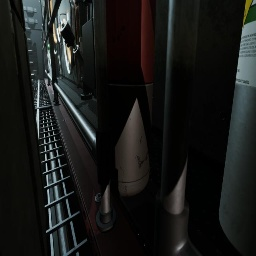0: (218, 0, 256, 256), (47, 42, 52, 78)
NitrogenTank ,: (106, 0, 156, 197)
